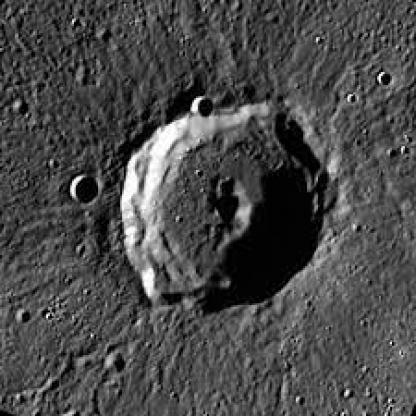craters: (102, 94, 350, 335), (183, 166, 266, 264), (64, 164, 104, 216), (7, 87, 41, 127), (98, 348, 139, 377), (185, 92, 224, 122), (364, 70, 400, 91), (13, 303, 42, 329), (342, 88, 361, 114), (308, 37, 334, 52)
